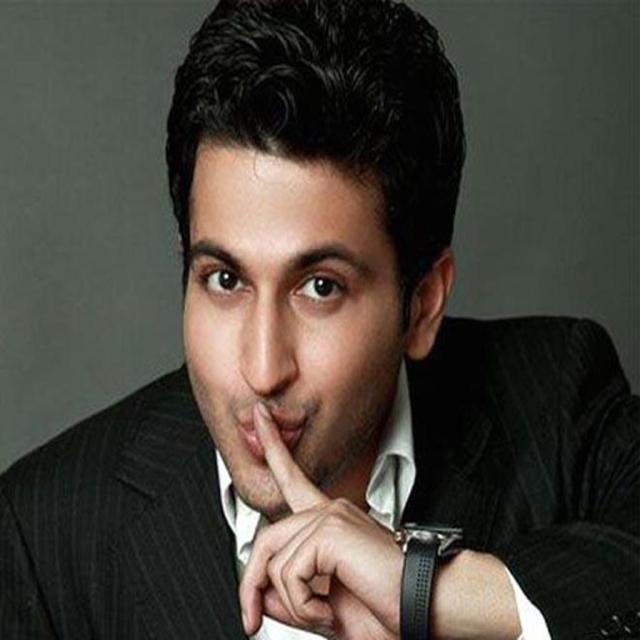Face: (172, 126, 401, 529)
